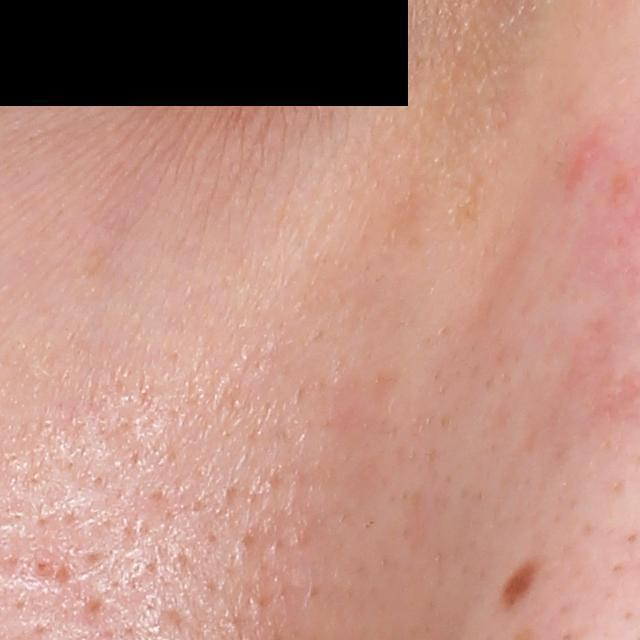nevus: (498, 555, 541, 611)
